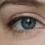eye: (21, 19, 36, 29)
